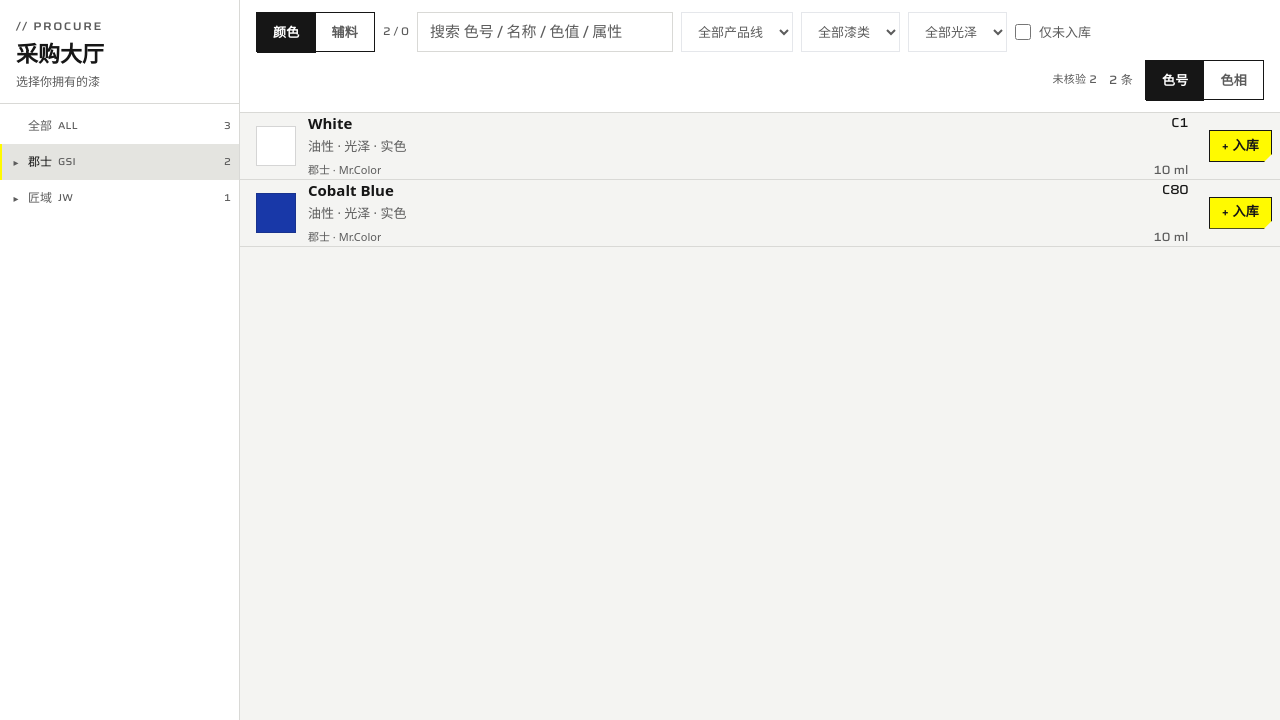
Test: 采购大厅（spec 3.2 / AC-15 / AC-16） › 入库：确认后该行出现「已入库 ×1」、按钮变「再入库一份」，并写入 stockItem 与回执
Step 1. Click the button "+ 入库" next to "C80" → {"x": 1240, "y": 213}, box [1209,197,1272,229]
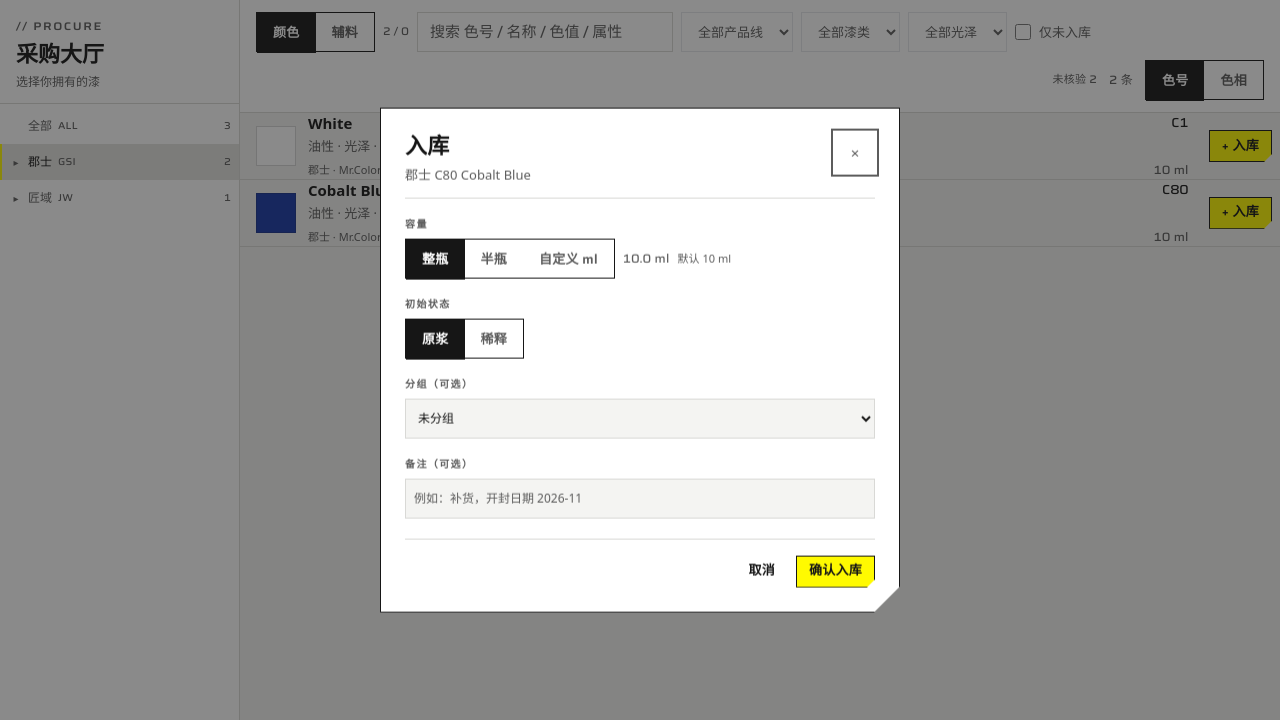
Step 2. Click the button "确认入库" → {"x": 836, "y": 571}, box [796,555,875,587]
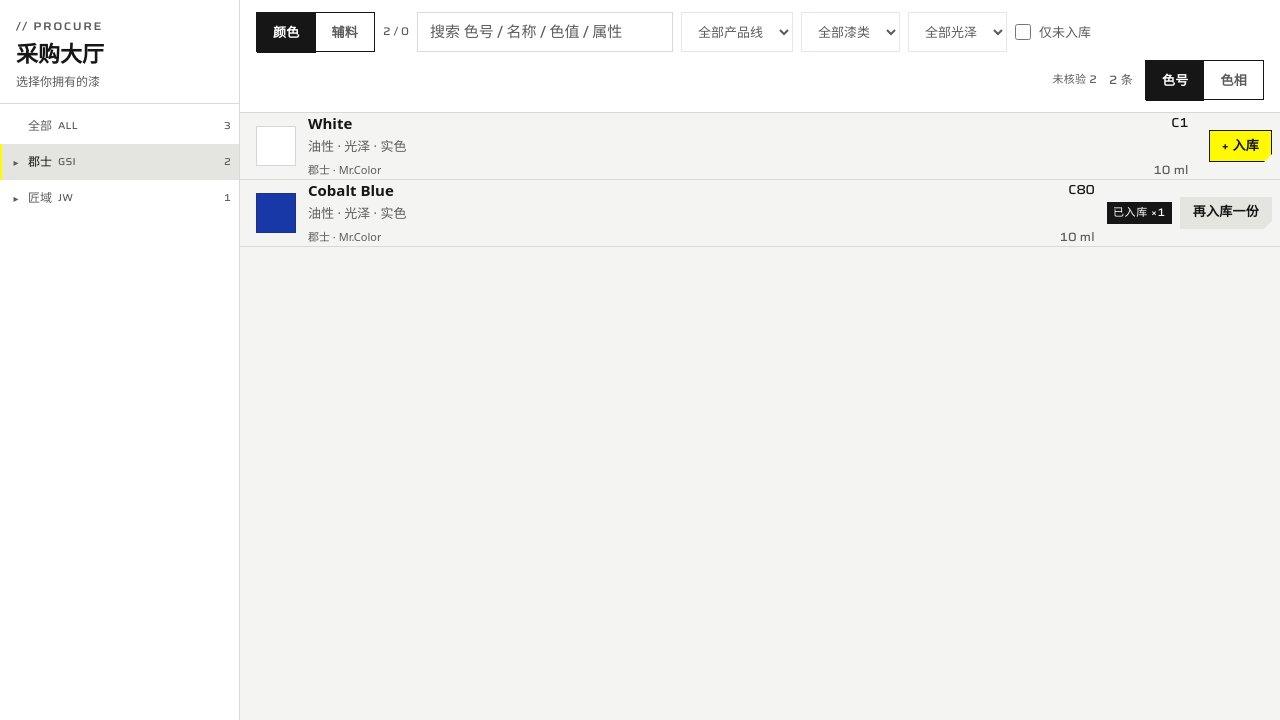
Now the text "已入库 ×1" is shown, box [1107,202,1172,224]
Now the text "再入库一份" is shown, box [1180,197,1272,229]
